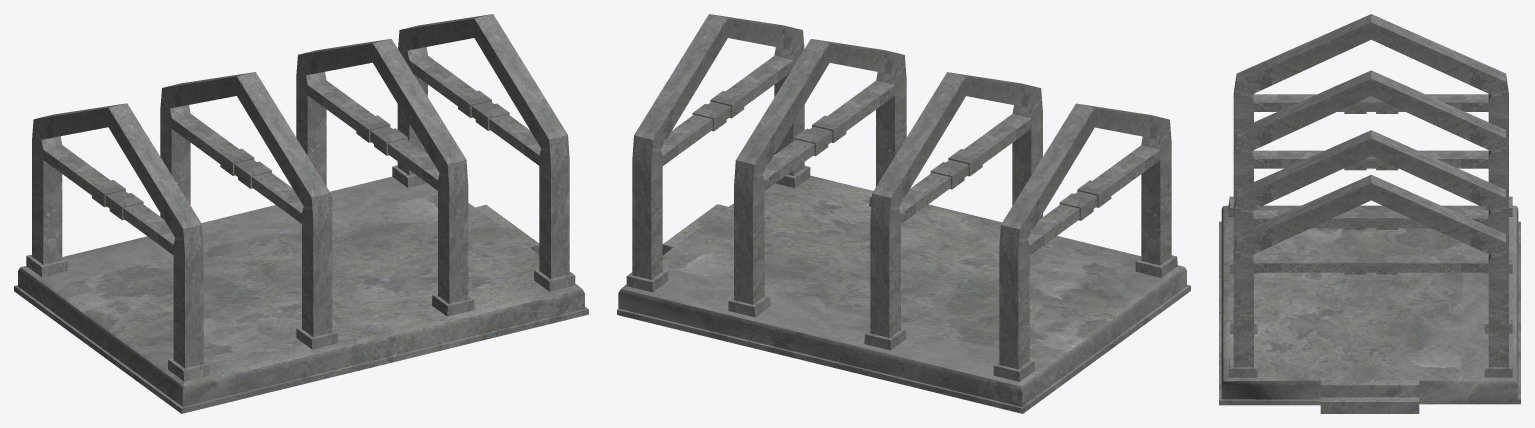
The model's file is forge_base.fbx.
3 renders of one model, left to right at view 1: azimuth 30°, elevation 25°; view 2: azimuth 150°, elevation 25°; view 3: azimuth 270°, elevation 25°, orthographic. The views are drawn at different scales.
Parts seen in each view (by area): view 1: forge_base; view 2: forge_base; view 3: forge_base.
Boxes of the visible parts, x1=… form: forge_base: x1=14, y1=14, x2=588, y2=413; forge_base: x1=617, y1=14, x2=1190, y2=413; forge_base: x1=1219, y1=14, x2=1520, y2=413.
Bounding box in the file's own units: 6 × 3.24 × 4.08.
